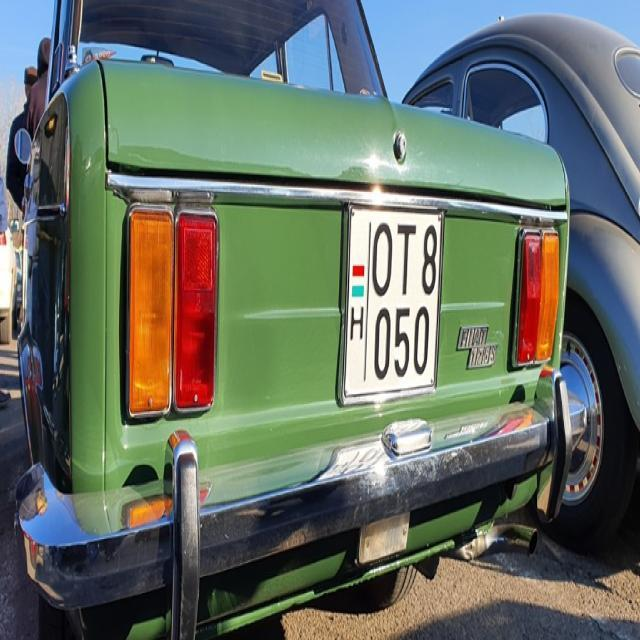licence: (336, 195, 446, 402)
